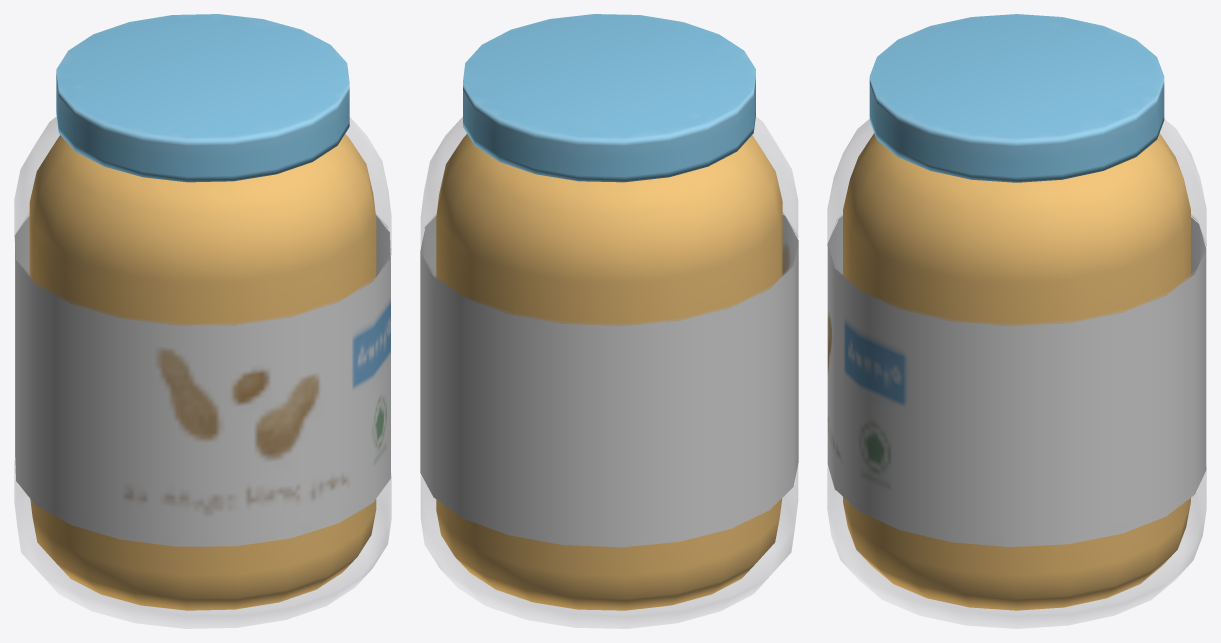
File: pi_peanutbutter02.gltf
3 renders of one model, left to right at view 1: azimuth 30°, elevation 25°; view 2: azimuth 150°, elevation 25°; view 3: azimuth 270°, elevation 25°, orthographic.
Visible parts, largest first — view 1: pi_peanutbutter02_bottle_label01_mesh_shape:pi_peanutbutter0, pi_peanutbutter02_bottle_outside01_mesh_shape:pi_peanutbutte, pi_peanutbutter02_inside01_mesh_shape:pi_peanutbutter02_body, pi_peanutbutter02_lid01_mesh_shape:pi_peanutbutter02_lid; view 2: pi_peanutbutter02_bottle_label01_mesh_shape:pi_peanutbutter0, pi_peanutbutter02_bottle_outside01_mesh_shape:pi_peanutbutte, pi_peanutbutter02_inside01_mesh_shape:pi_peanutbutter02_body, pi_peanutbutter02_lid01_mesh_shape:pi_peanutbutter02_lid; view 3: pi_peanutbutter02_bottle_label01_mesh_shape:pi_peanutbutter0, pi_peanutbutter02_bottle_outside01_mesh_shape:pi_peanutbutte, pi_peanutbutter02_inside01_mesh_shape:pi_peanutbutter02_body, pi_peanutbutter02_lid01_mesh_shape:pi_peanutbutter02_lid.
Boxes of the visible parts, left/top/right/bottom form: pi_peanutbutter02_bottle_label01_mesh_shape:pi_peanutbutter0: left=15, top=215, right=390, bottom=546; pi_peanutbutter02_bottle_outside01_mesh_shape:pi_peanutbutte: left=14, top=117, right=391, bottom=628; pi_peanutbutter02_inside01_mesh_shape:pi_peanutbutter02_body: left=29, top=134, right=376, bottom=610; pi_peanutbutter02_lid01_mesh_shape:pi_peanutbutter02_lid: left=56, top=14, right=349, bottom=182; pi_peanutbutter02_bottle_label01_mesh_shape:pi_peanutbutter0: left=420, top=214, right=798, bottom=547; pi_peanutbutter02_bottle_outside01_mesh_shape:pi_peanutbutte: left=420, top=117, right=798, bottom=628; pi_peanutbutter02_inside01_mesh_shape:pi_peanutbutter02_body: left=436, top=134, right=782, bottom=610; pi_peanutbutter02_lid01_mesh_shape:pi_peanutbutter02_lid: left=463, top=14, right=755, bottom=182; pi_peanutbutter02_bottle_label01_mesh_shape:pi_peanutbutter0: left=827, top=216, right=1206, bottom=547; pi_peanutbutter02_bottle_outside01_mesh_shape:pi_peanutbutte: left=827, top=119, right=1206, bottom=628; pi_peanutbutter02_inside01_mesh_shape:pi_peanutbutter02_body: left=843, top=133, right=1190, bottom=610; pi_peanutbutter02_lid01_mesh_shape:pi_peanutbutter02_lid: left=869, top=14, right=1164, bottom=182.
Size of the model in its own units: 0.0838 by 0.1177 by 0.0838.
Materials: 3 (3 with a texture image).
